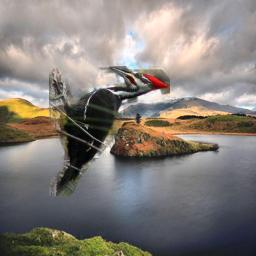Woodpecker: (49, 66, 170, 196)
